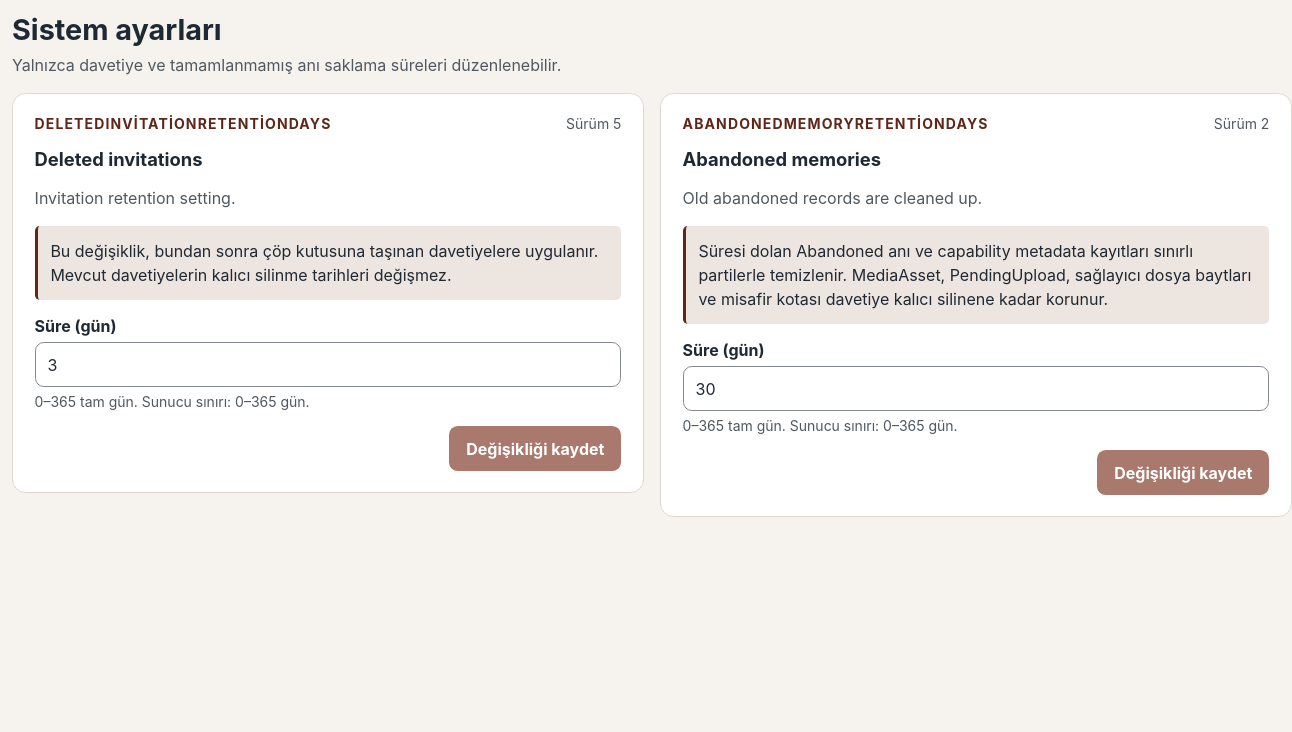
Scenario: AdminSettingsPage › requires confirmation and antiforgery, then saves the expected revision and integer value
The width and height of the screenshot is (1292, 732).
Step 1. Replace the text in the number field labelled "Süre (gün) 0–365 tam gün. Sunucu sınırı: 0–365 gün." below "Invitation retention setting." with "7" → (328, 365), box [35,342,621,387]
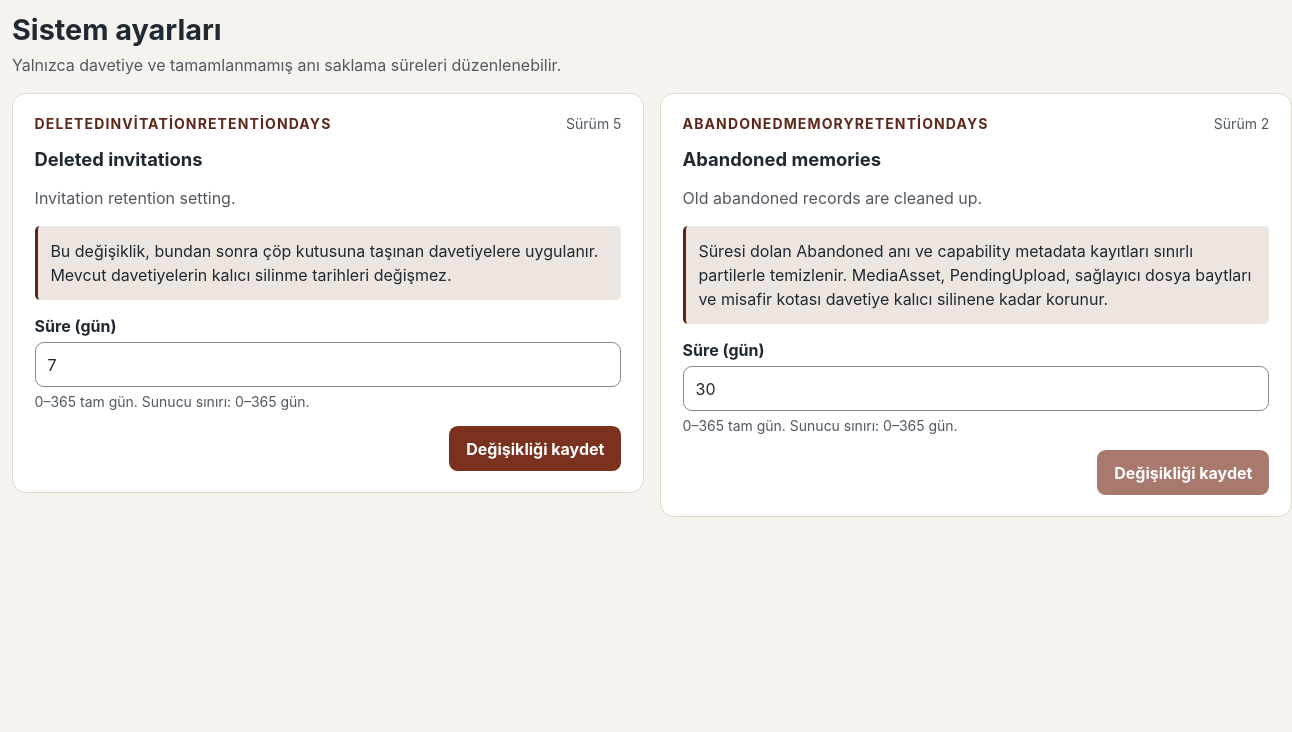
Step 2. Submit the form with id "admin-setting-title-deletedInvitationRetentionDays", box [12,93,644,493]
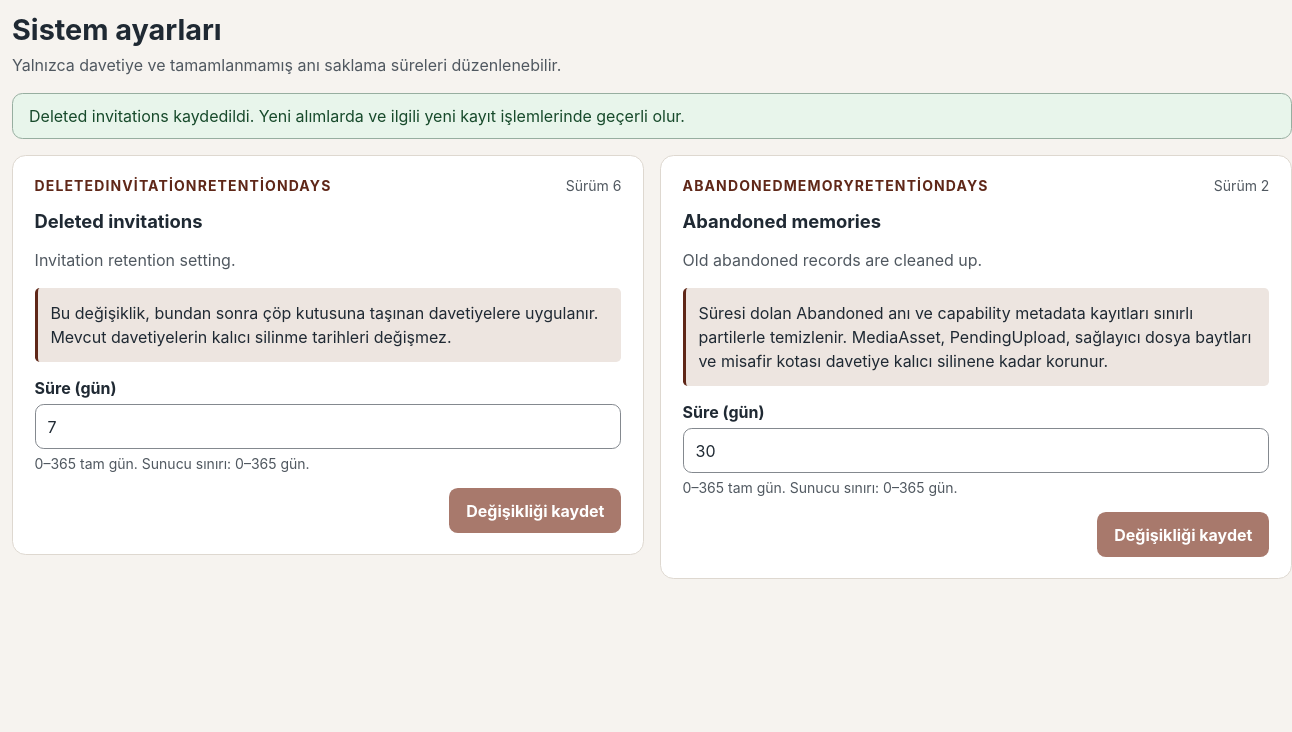
Check: the message is shown, box [12,93,1291,139]
